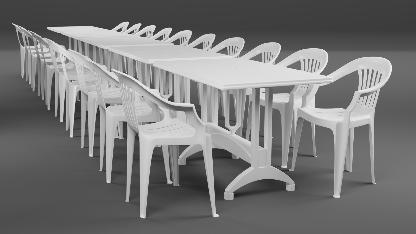chair: (111, 66, 222, 224), (304, 53, 394, 199), (267, 47, 330, 150), (230, 39, 287, 95)
